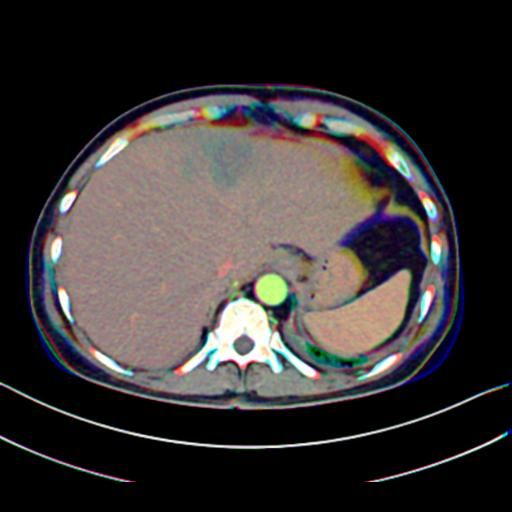Abscess: (202, 128, 252, 188)
